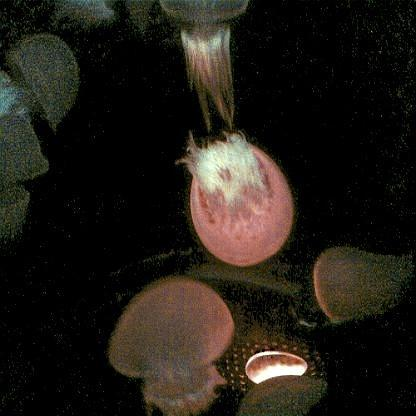Handstand: (111, 281, 237, 413), (181, 136, 293, 265), (160, 3, 243, 133), (3, 37, 81, 143), (314, 242, 408, 322), (1, 121, 49, 257), (237, 377, 327, 416), (50, 0, 120, 35)
